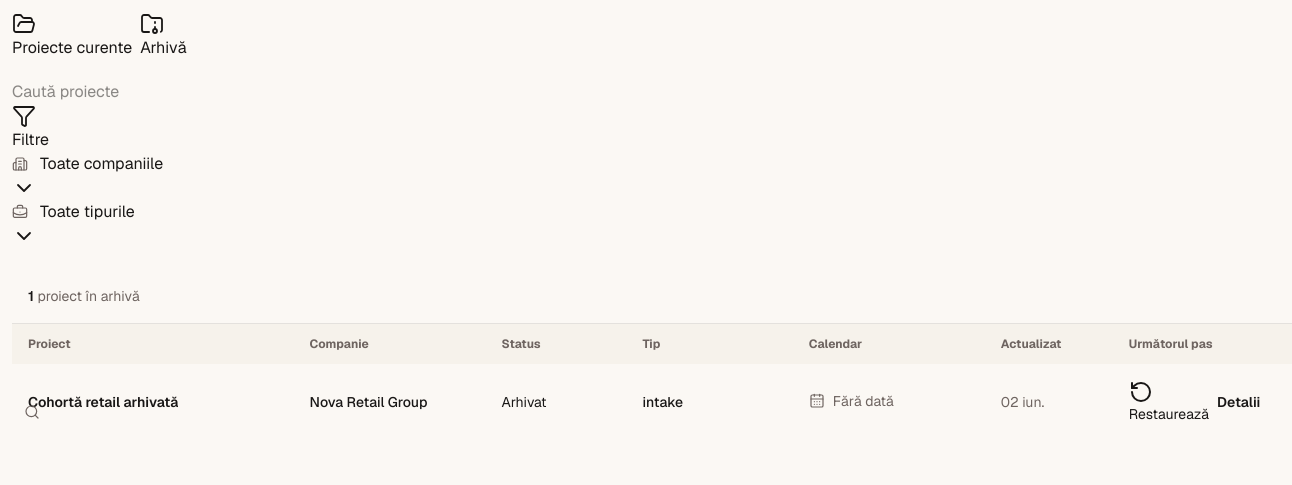
ProjectsWorkspace › keeps the archived project visible and reports a restore failure
The image size is (1292, 485).
Click the button "Restaurează" at [1169, 402], box [1129,380,1209,424]
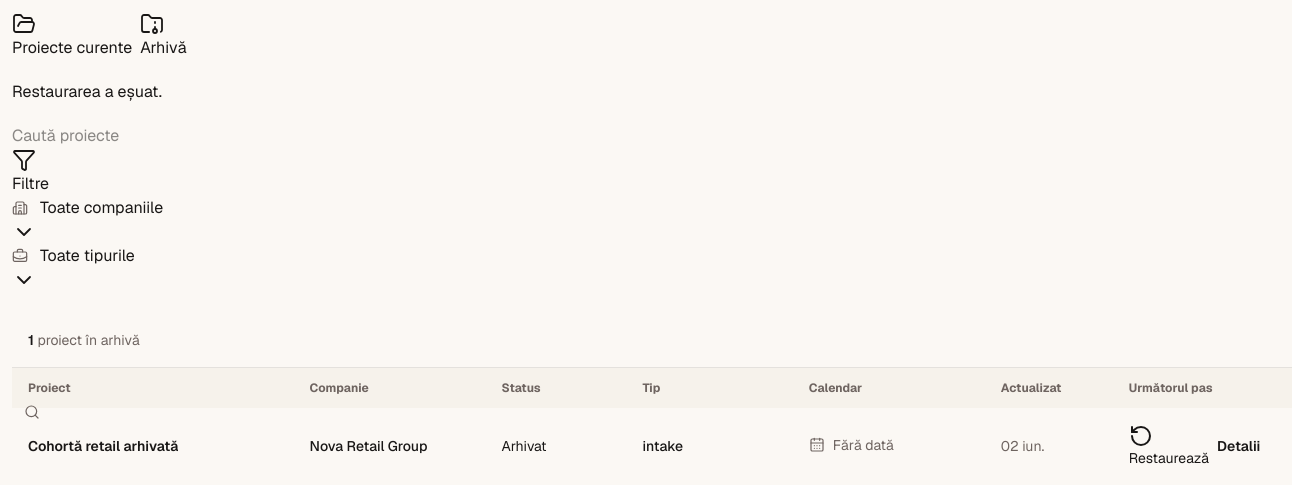
Check: the text "Cohortă retail arhivată" is shown, box [28,436,178,456]
Check: the text "Restaurarea a eșuat." is shown, box [12,81,162,102]
